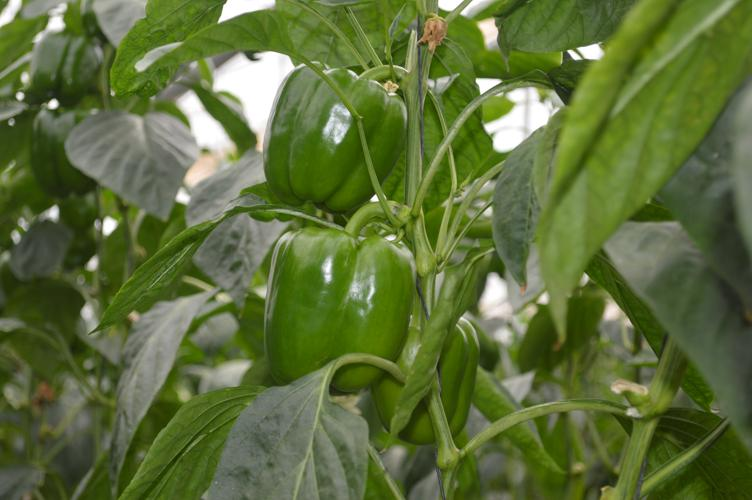BellPepper: (261, 232, 405, 390), (262, 60, 404, 209), (375, 310, 478, 446), (30, 111, 92, 193), (29, 31, 98, 104)
